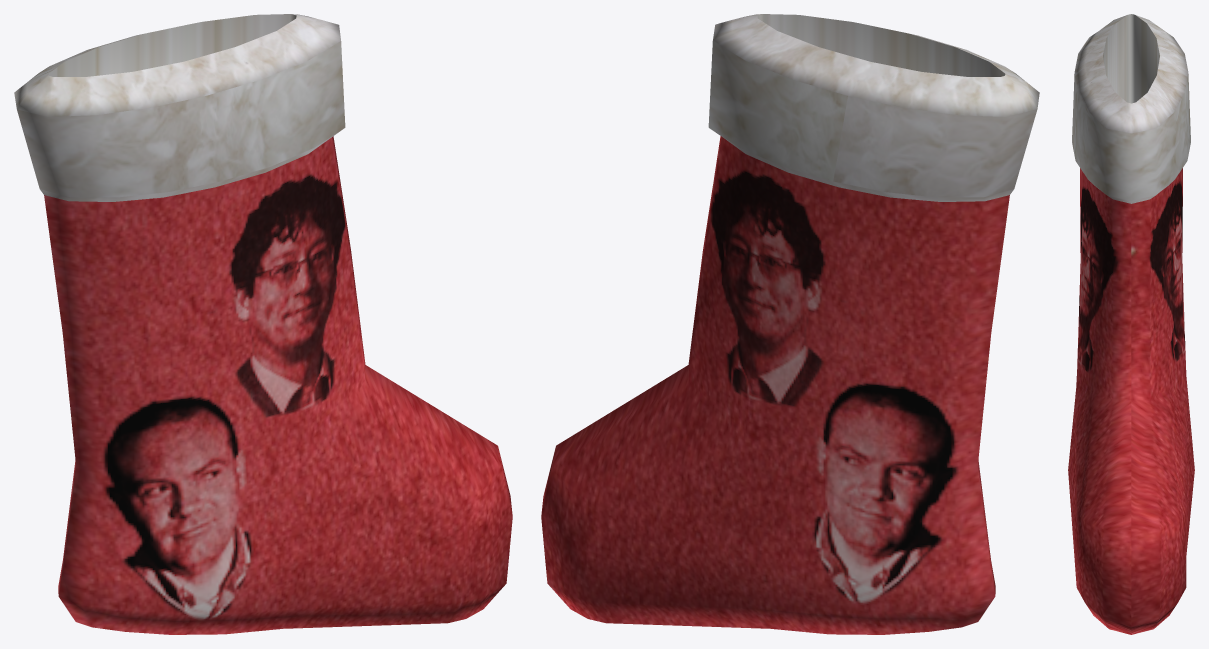
Rendered from stocking.fbx.
3 renders of one model, left to right at view 1: azimuth 30°, elevation 25°; view 2: azimuth 150°, elevation 25°; view 3: azimuth 270°, elevation 25°, orthographic. The views are drawn at different scales.
Parts seen in each view (by area): view 1: pCylinder1; view 2: pCylinder1; view 3: pCylinder1.
Boxes of the visible parts, <box> form: pCylinder1: <box>14,14,512,634</box>; pCylinder1: <box>541,14,1039,634</box>; pCylinder1: <box>1068,14,1194,634</box>.
Bounding box in the file's own units: 31.5 × 9.44 × 38.19.
